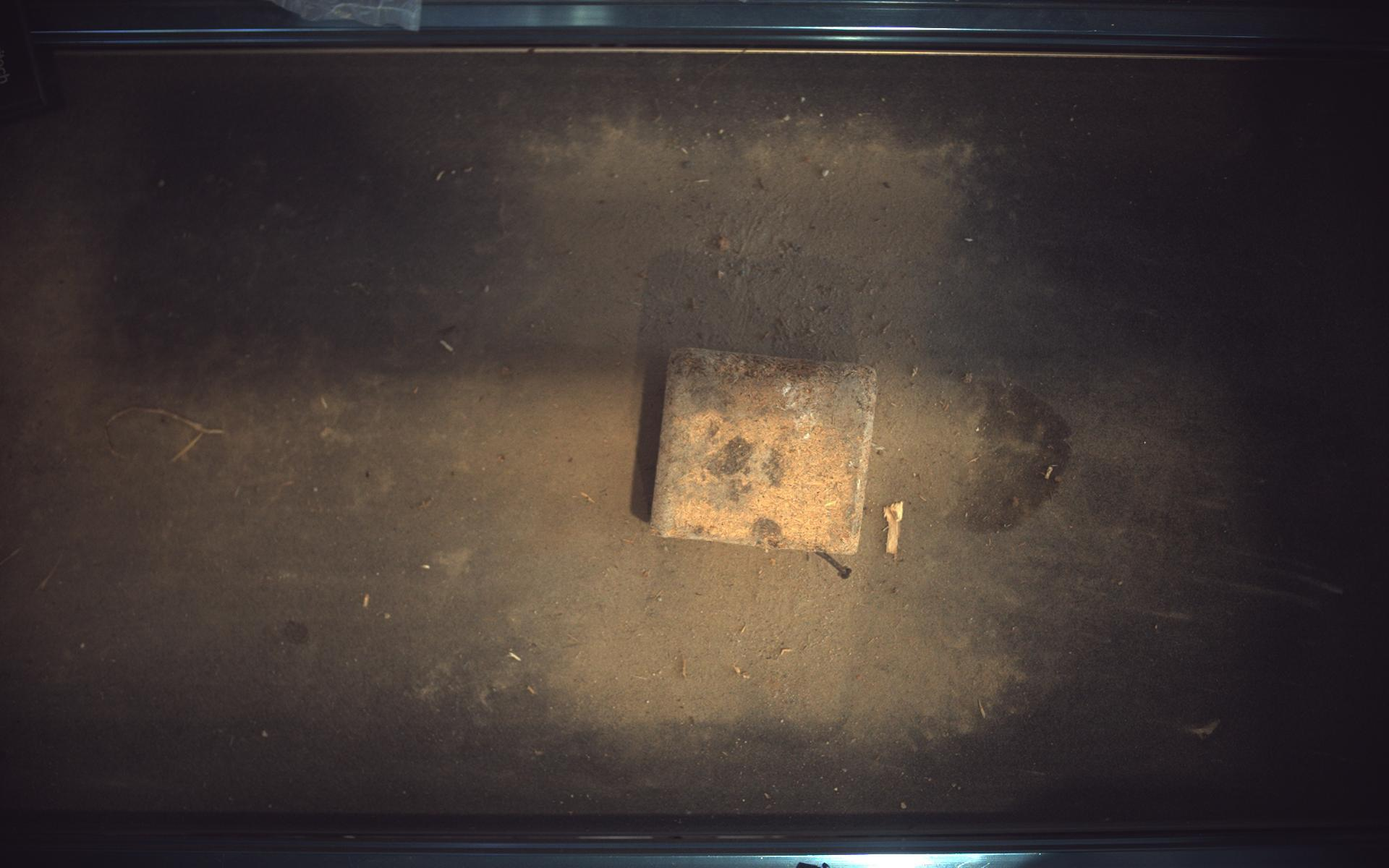wood: (652, 348, 878, 555)
